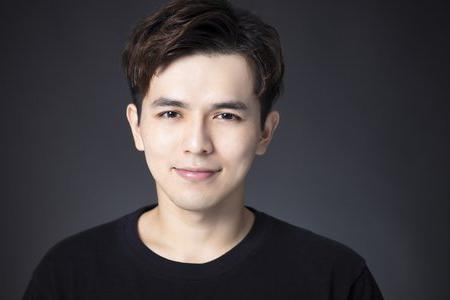Sober: (144, 61, 252, 204)
